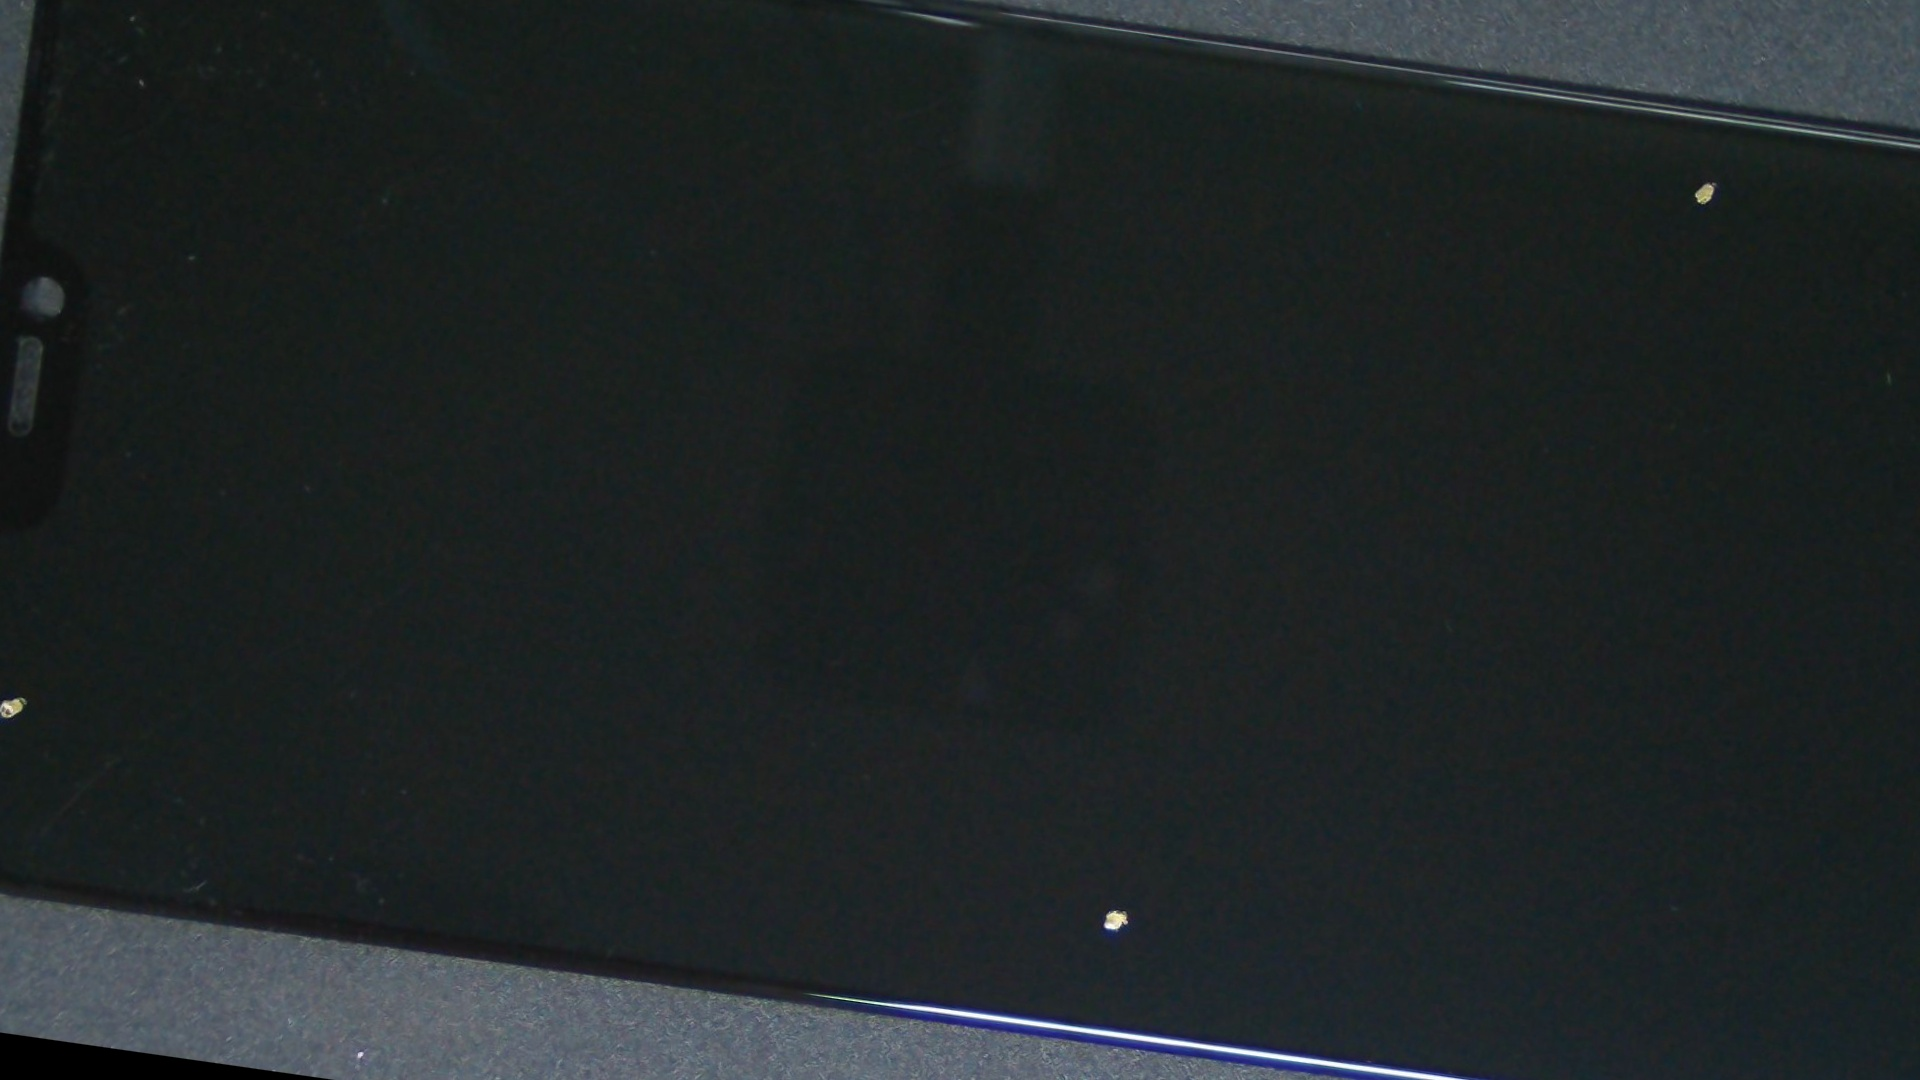oil: (438, 314, 1833, 1080), (906, 152, 1920, 885), (818, 0, 1920, 351), (0, 208, 175, 1042)
